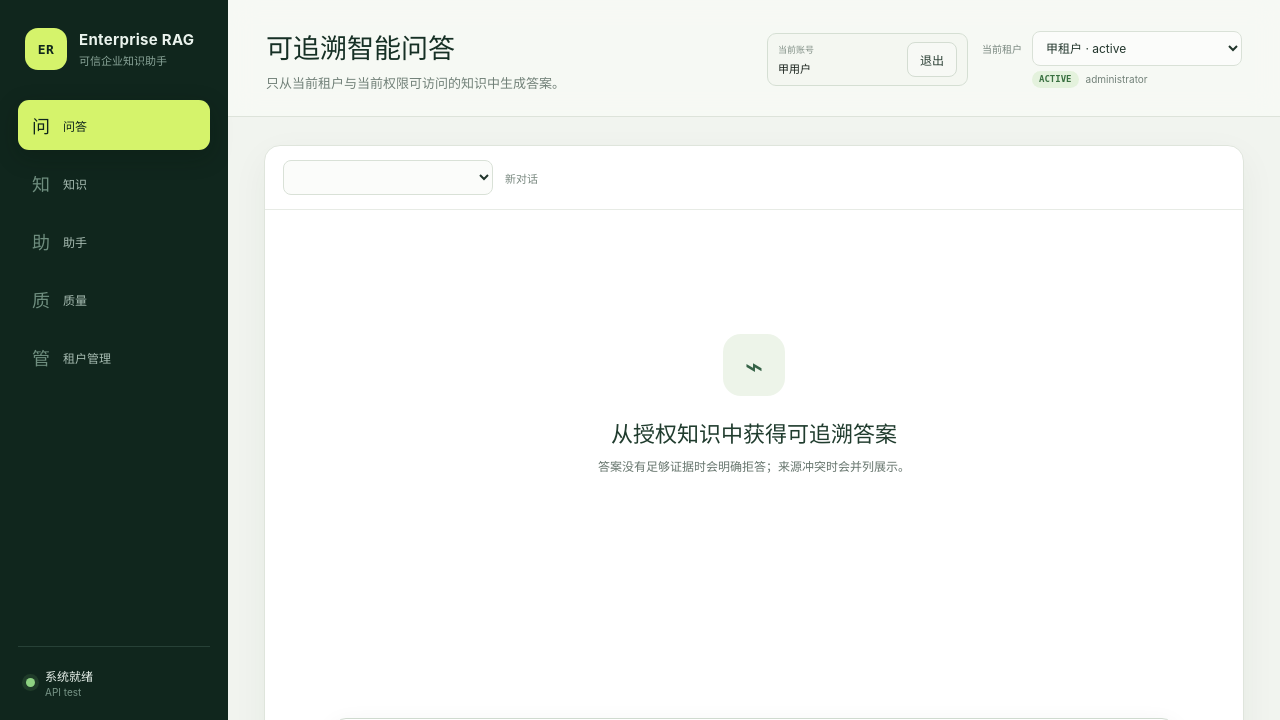
Test: tenant application boundary › clears the active data view and renders a suspended state after switching
The width and height of the screenshot is (1280, 720).
expect the button "管 租户管理" is shown: met, box top-left (18, 332), bottom-right (210, 382)
Step 1. Select "乙租户 · suspended" in the dropdown labelled "当前租户" → x=1137, y=49, box top-left (1032, 31), bottom-right (1242, 66)
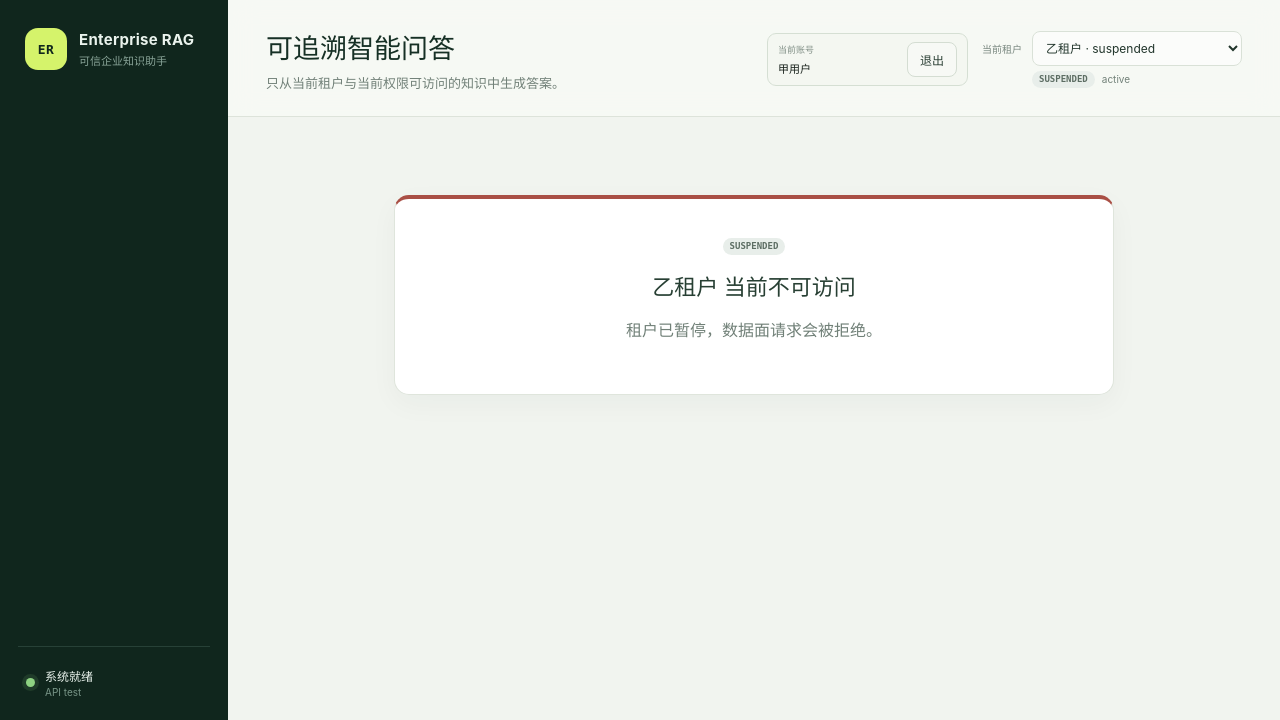
expect the heading "乙租户 当前不可访问" is shown: met, box top-left (652, 275), bottom-right (856, 300)
expect the text "租户已暂停，数据面请求会被拒绝。" is shown: met, box top-left (626, 320), bottom-right (882, 340)
